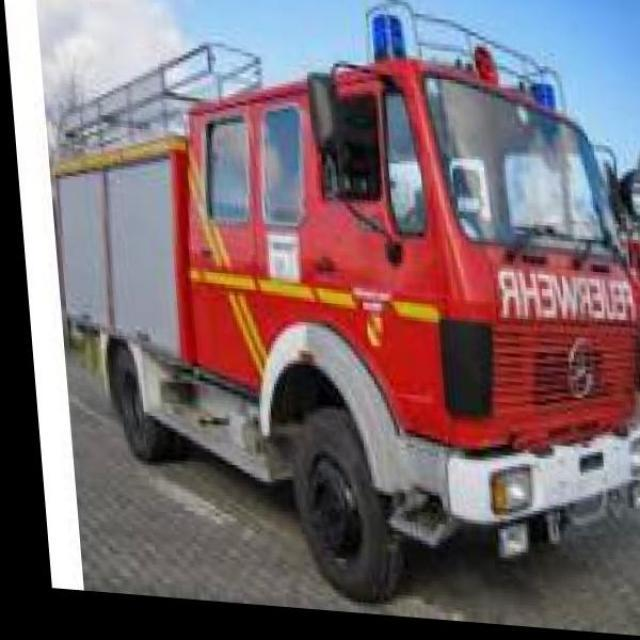emergency: (49, 1, 638, 603)
